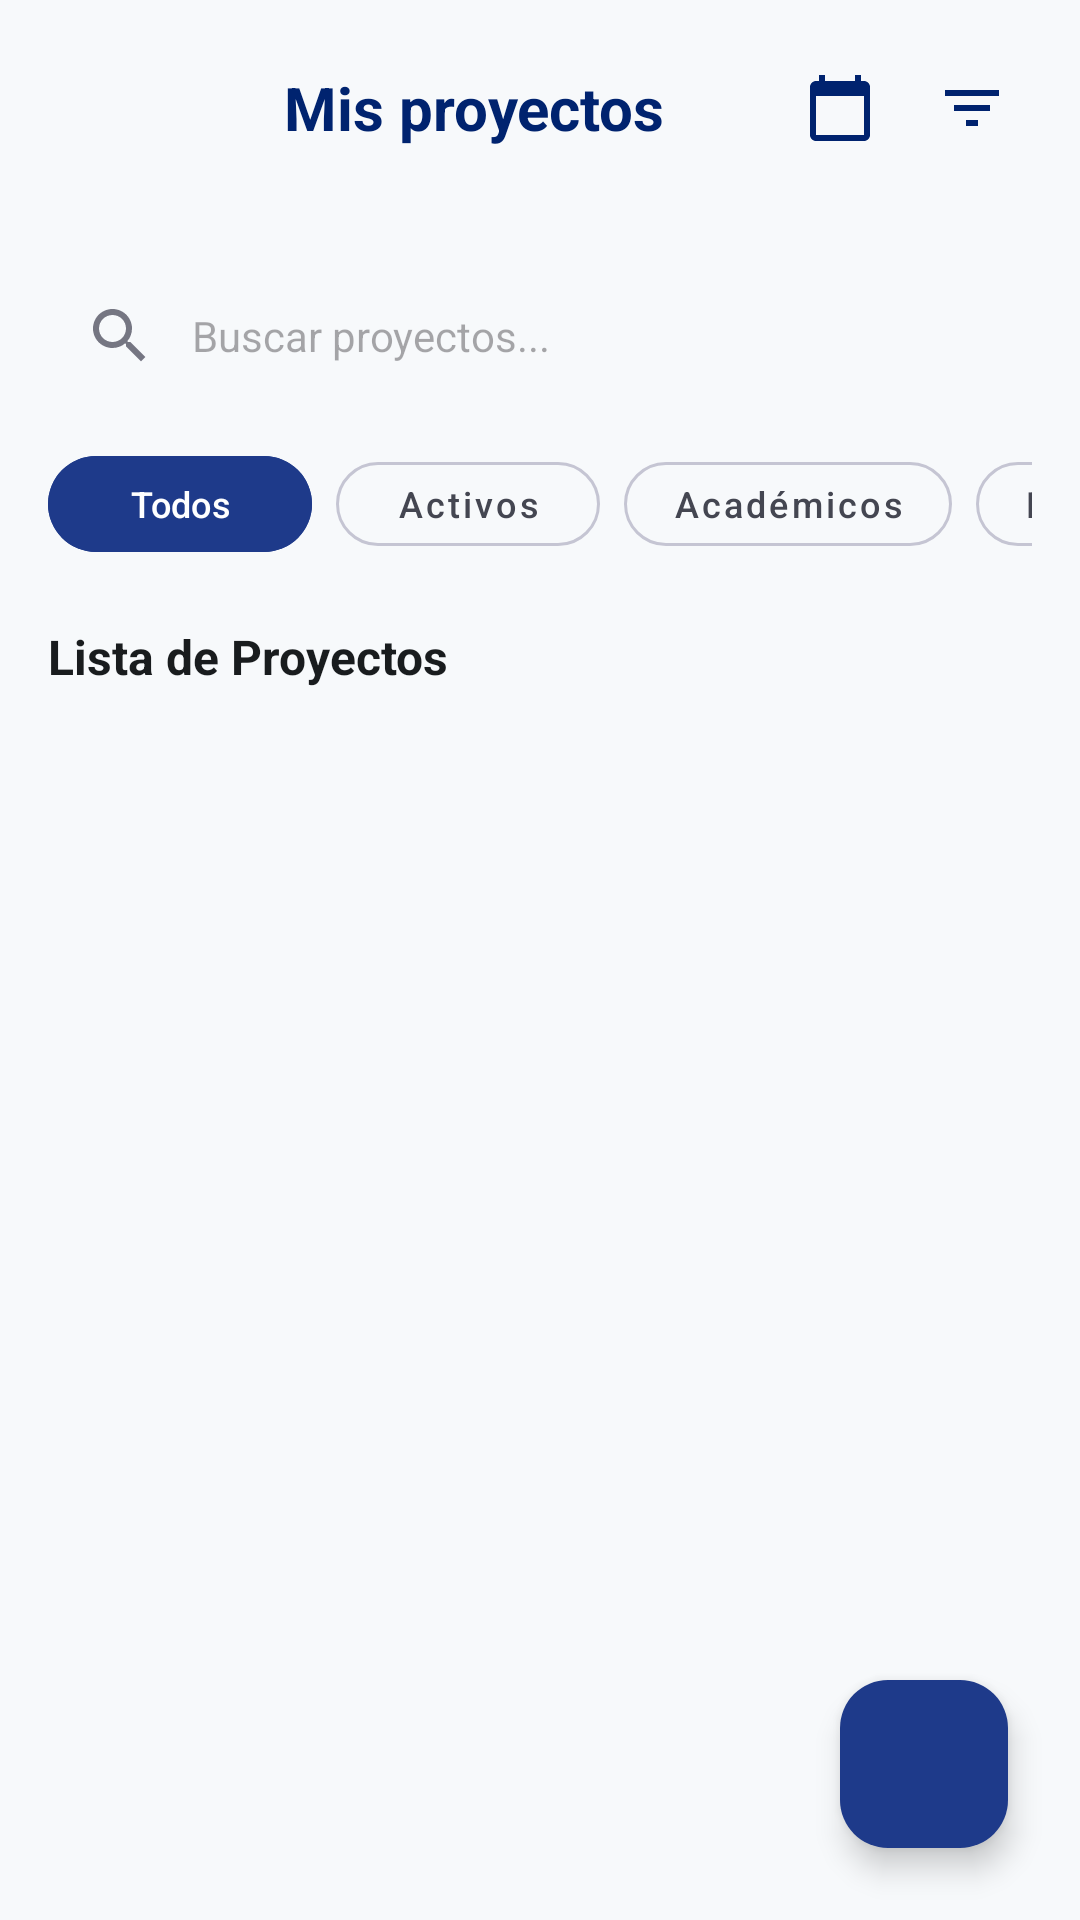

Screen size 1080w x 1920h. Icon name, then its center in pixels as (x=x, y=y):
Calendario de entregas: (x=840, y=108)
Filtrar: (x=972, y=108)
